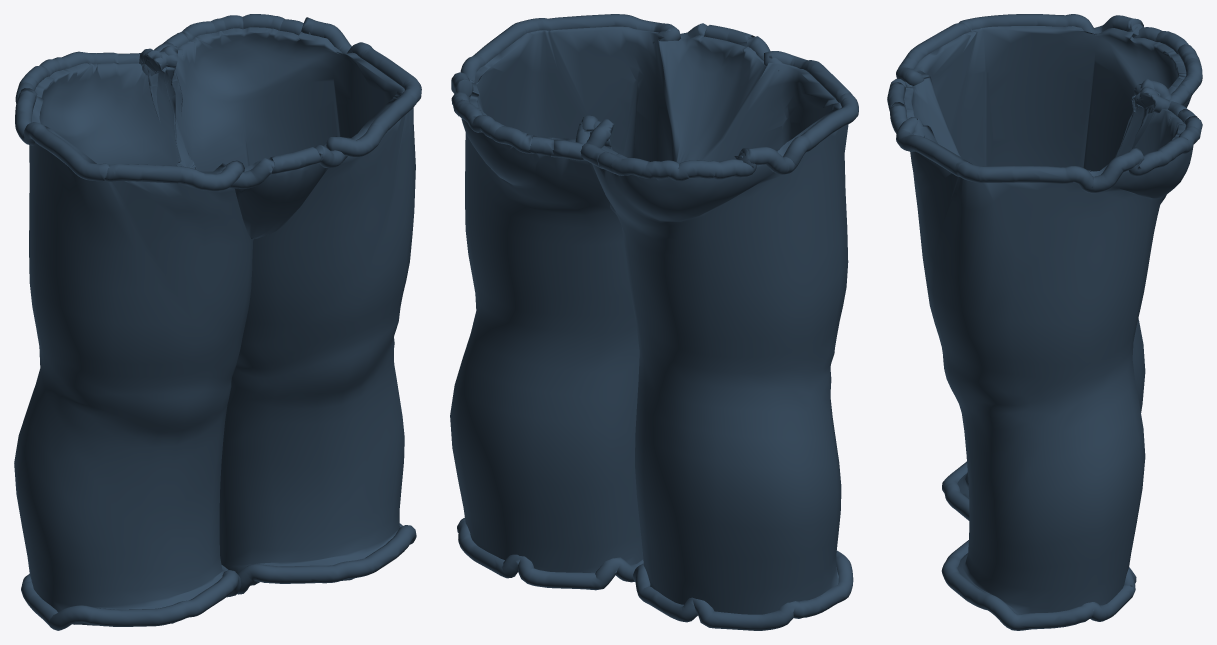
The model's file is 3HT-masculino.glb.
The picture shows the model from 3 angles, left to right: view 1: azimuth 30°, elevation 25°; view 2: azimuth 150°, elevation 25°; view 3: azimuth 270°, elevation 25°; orthographic projection. The views are drawn at different scales.
Parts seen in each view (by area): view 1: fitted-shell, bound-edge (×3); view 2: fitted-shell, bound-edge (×3); view 3: fitted-shell, bound-edge (×3).
Boxes of the visible parts, x1,y1,x2,y2 form: fitted-shell: (14, 27, 415, 625); bound-edge (×3): (15, 14, 421, 630); fitted-shell: (450, 26, 848, 614); bound-edge (×3): (451, 14, 858, 630); fitted-shell: (904, 26, 1193, 614); bound-edge (×3): (887, 14, 1202, 630).
Bounding box in the file's own units: 0.0313 × 0.0409 × 0.0248.
